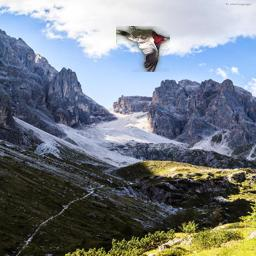Woodpecker: (116, 26, 170, 72)
